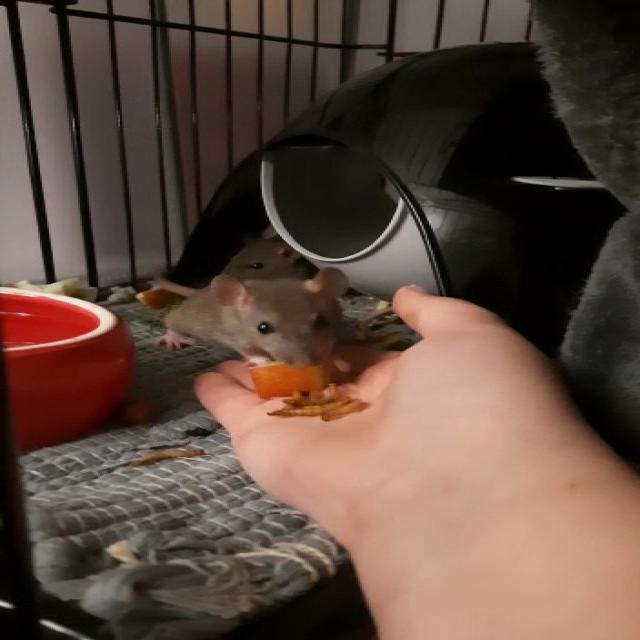rat: (161, 266, 354, 376)
